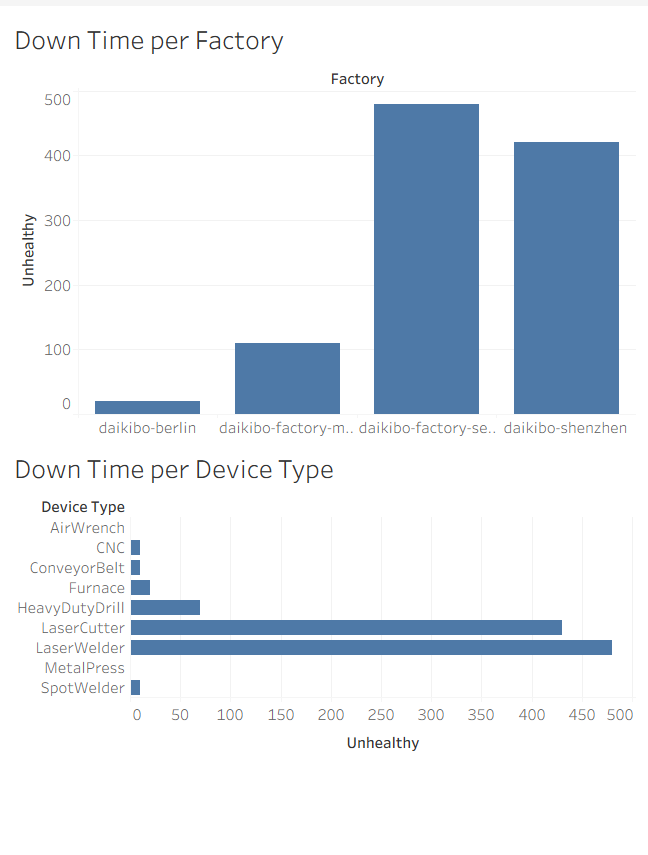

The page's visual inventory and layout, read from the dashboard file:
{"tool":"tableau","page":{"name":"Dashboard 1","canvas":[650,860],"ordinal":0},"visuals":[{"type":"worksheet","title":"Down Time per Factory","mark":"Automatic","rows":["Calculation_1509400445558784"],"cols":["factory"],"box":[8,8.1,634,433]},{"type":"worksheet","title":"Down Time per Device Type","mark":"Automatic","rows":["deviceType"],"cols":["Calculation_1509400445558784"],"box":[8,441.1,634,410.8]}]}

Visuals, with their boxes in screenshot pixels (x1, y1, x2, y2), scaled from the page's 650x860 canvas onto the 648x855 screenshot:
"Down Time per Factory" worksheet: <bbox>8, 8, 640, 439</bbox>
"Down Time per Device Type" worksheet: <bbox>8, 439, 640, 847</bbox>
